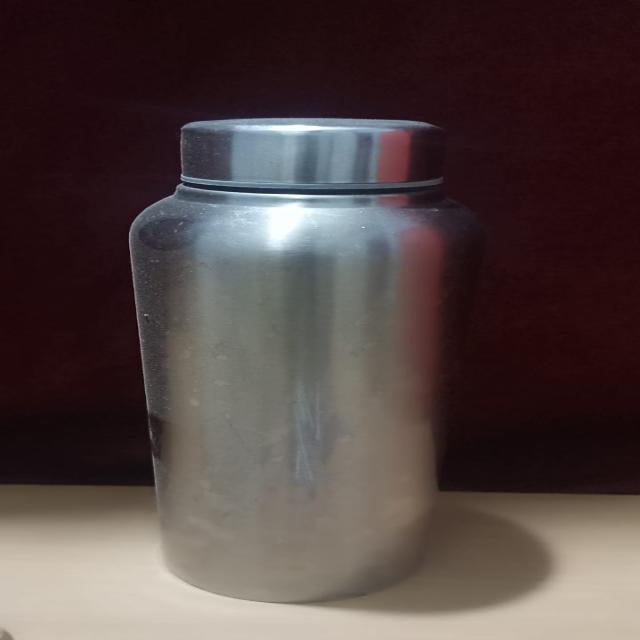bottle: (114, 106, 477, 618)
